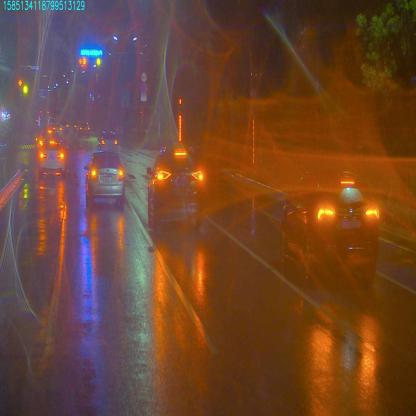traffic-light: (79, 46, 103, 57), (22, 82, 29, 95), (94, 59, 101, 66), (79, 58, 86, 65), (18, 78, 23, 85)
